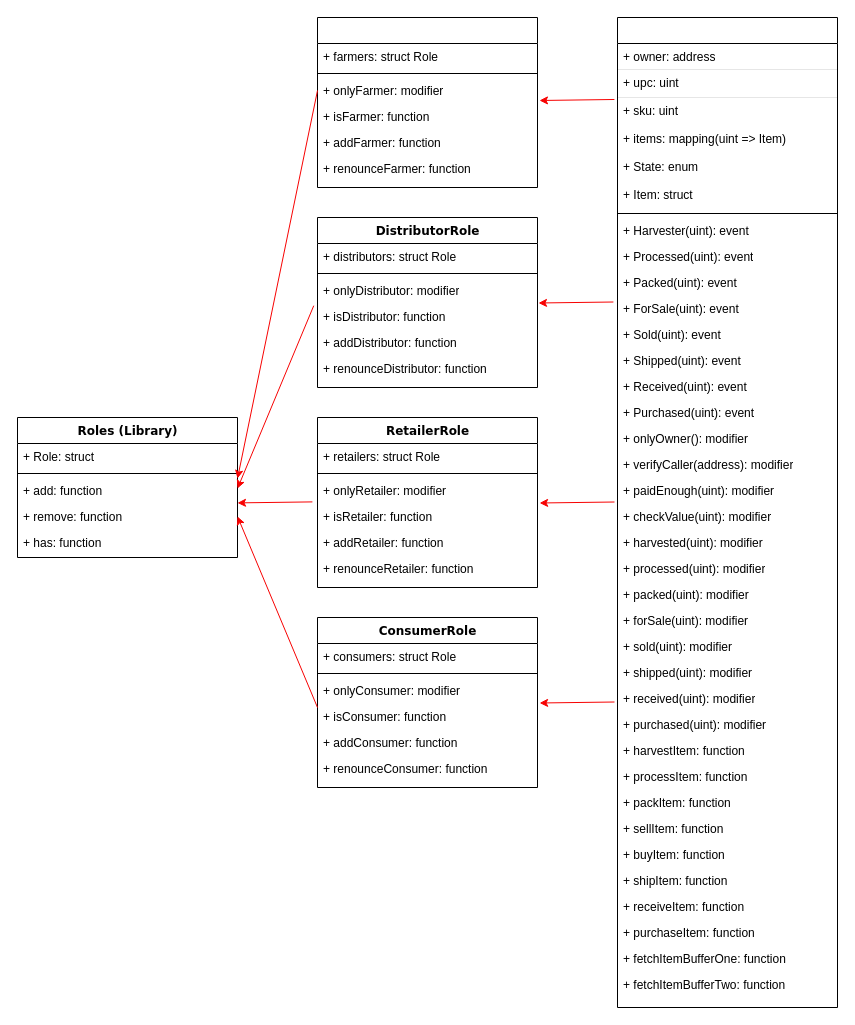
Image size: 855x1025. Some labels were removed from this diagram. Each missing label, with the box of its shape:
FarmerRole: (316, 16, 538, 188)
SupplyChain: (616, 16, 838, 1008)
